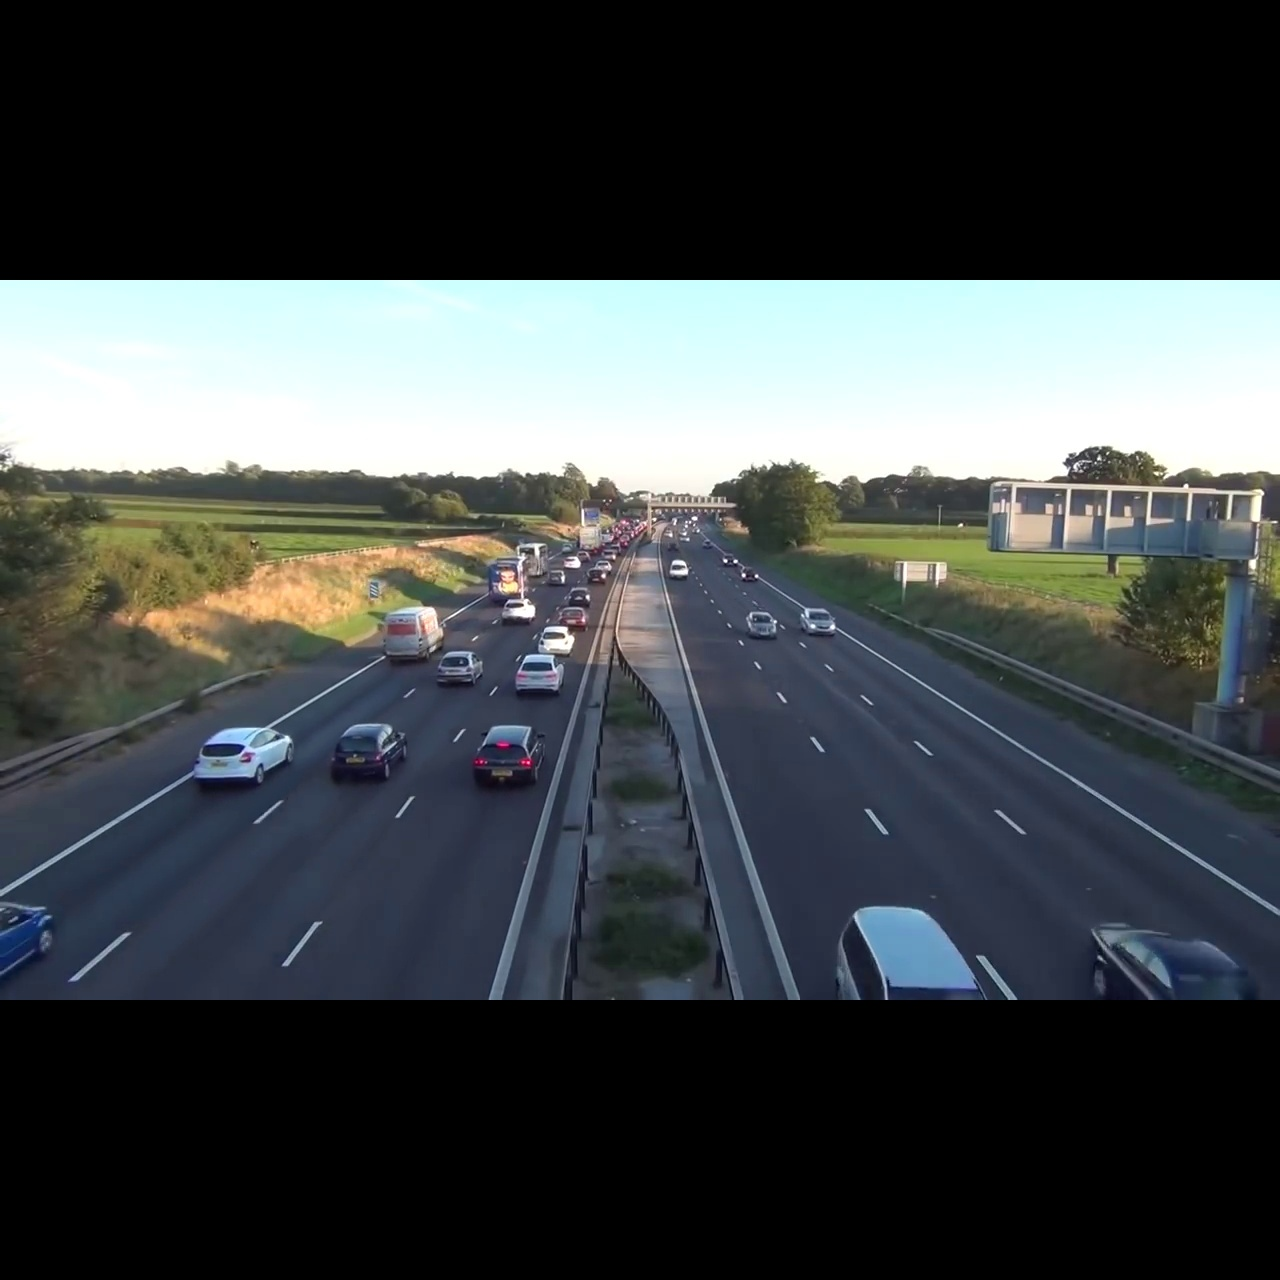vehicle: (1080, 910, 1274, 999), (826, 898, 994, 999), (190, 722, 301, 791), (327, 720, 411, 784), (470, 722, 550, 790), (380, 605, 447, 665), (513, 652, 568, 696), (435, 649, 486, 687), (488, 556, 527, 602), (536, 625, 577, 658), (797, 606, 838, 638), (744, 610, 782, 644), (501, 595, 538, 624), (556, 606, 591, 631), (568, 585, 592, 607)
